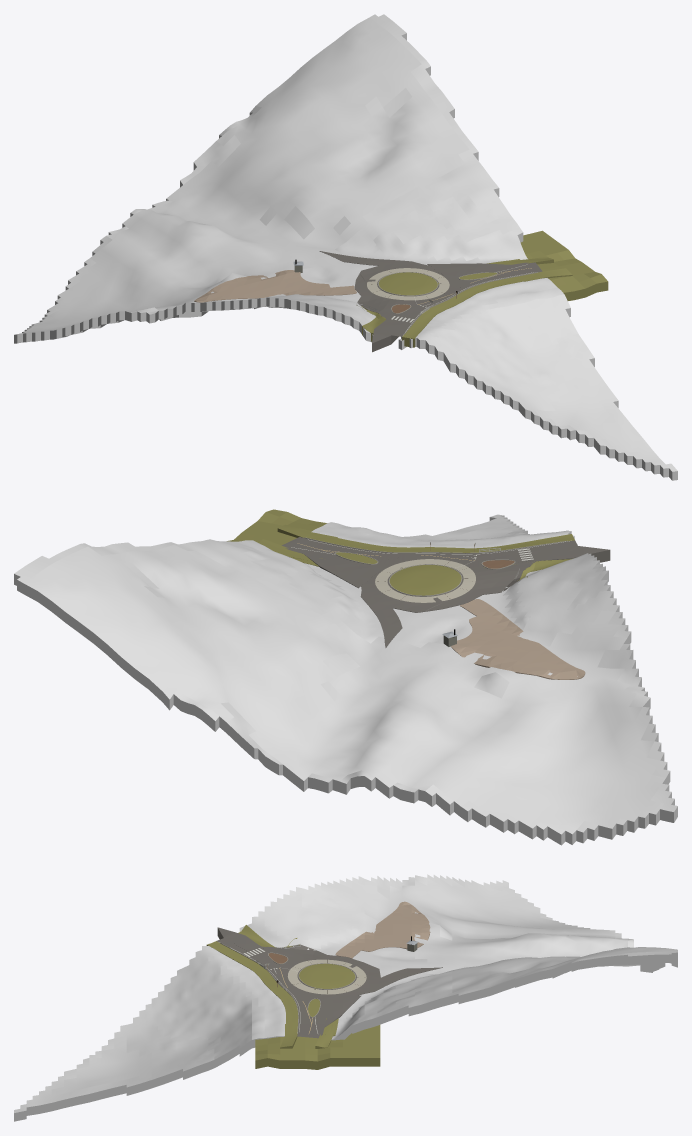
The model's file is conz_27.glb.
The picture shows the model from 3 angles, top to bottom: view 1: azimuth 30°, elevation 25°; view 2: azimuth 150°, elevation 25°; view 3: azimuth 270°, elevation 25°; orthographic projection. The views are drawn at different scales.
Visible parts, largest first — view 1: terrain27, terrain27J, lot_gravel_th27, lot27_5, road27, verge27L, verge_pen27_2, lot_apron27, lot27_7, lot27_6; view 2: terrain27, lot_gravel_th27, lot27_5, road27, verge_pen27_2, lot_apron27, terrain27J, verge27L, lot27_6, lot27_7; view 3: terrain27, terrain27J, lot_gravel_th27, lot27_5, road27, verge27L, verge_pen27_2, lot_apron27, lot27_6, lot27_7, verge27R.
Boxes of the visible parts, bbox=[...] form: terrain27: bbox=[14, 14, 677, 480]; terrain27J: bbox=[520, 230, 608, 300]; lot_gravel_th27: bbox=[194, 270, 356, 306]; lot27_5: bbox=[319, 251, 461, 318]; road27: bbox=[375, 262, 537, 336]; verge27L: bbox=[402, 273, 534, 347]; verge_pen27_2: bbox=[379, 272, 437, 295]; lot_apron27: bbox=[367, 268, 449, 300]; lot27_7: bbox=[372, 305, 432, 352]; lot27_6: bbox=[427, 263, 520, 288]; terrain27: bbox=[14, 514, 677, 845]; lot_gravel_th27: bbox=[451, 599, 585, 679]; lot27_5: bbox=[360, 560, 535, 647]; road27: bbox=[288, 538, 582, 568]; verge_pen27_2: bbox=[389, 565, 461, 595]; lot_apron27: bbox=[375, 559, 475, 602]; terrain27J: bbox=[227, 509, 326, 545]; verge27L: bbox=[311, 534, 574, 552]; lot27_6: bbox=[304, 542, 399, 588]; lot27_7: bbox=[466, 546, 610, 562]; terrain27: bbox=[14, 874, 677, 1121]; terrain27J: bbox=[255, 1025, 380, 1069]; lot_gravel_th27: bbox=[335, 901, 430, 958]; lot27_5: bbox=[262, 944, 442, 996]; road27: bbox=[216, 933, 326, 1034]; verge27L: bbox=[206, 941, 298, 1034]; verge_pen27_2: bbox=[299, 963, 355, 988]; lot_apron27: bbox=[287, 959, 366, 994]; lot27_6: bbox=[296, 994, 361, 1027]; lot27_7: bbox=[217, 927, 279, 973]; verge27R: bbox=[238, 925, 338, 1036].
Bounding box in the file's own units: 162 × 67.33 × 212.
